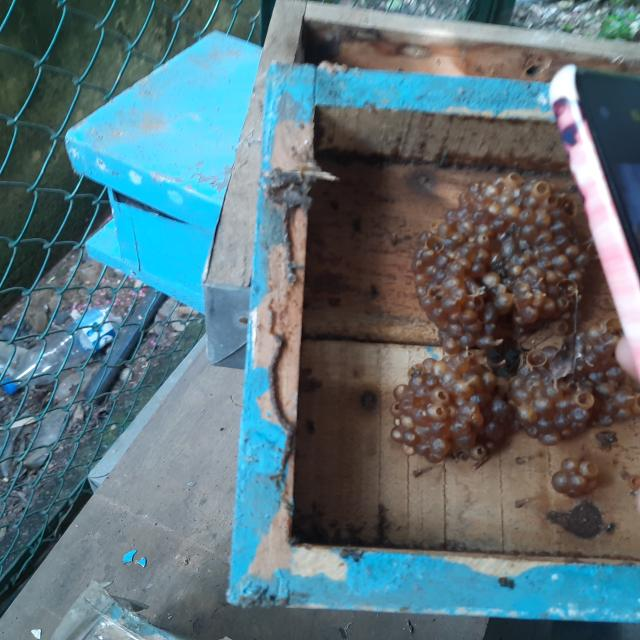honeybee: (490, 259, 506, 271), (492, 232, 508, 242), (505, 220, 517, 232), (502, 277, 515, 287), (500, 265, 509, 276), (410, 369, 422, 377)
